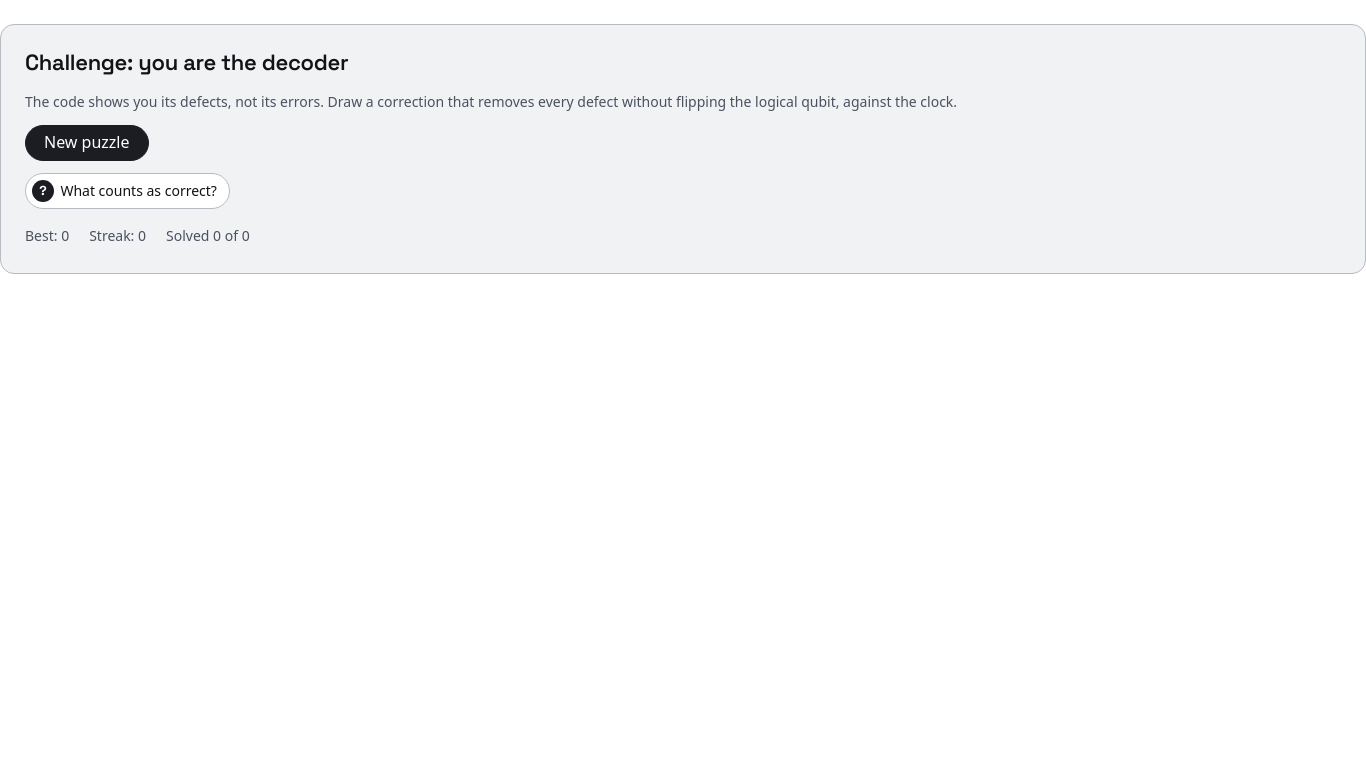
Test: ChallengePanel › submitting nothing: rejected, the player's residual (the error itself) drawn, streak 0, played counted
The width and height of the screenshot is (1366, 768).
What coordinates should you click on to do the following:
click the button "New puzzle"
I would click on:
 (87, 143)
Its box is [25, 125, 148, 161].
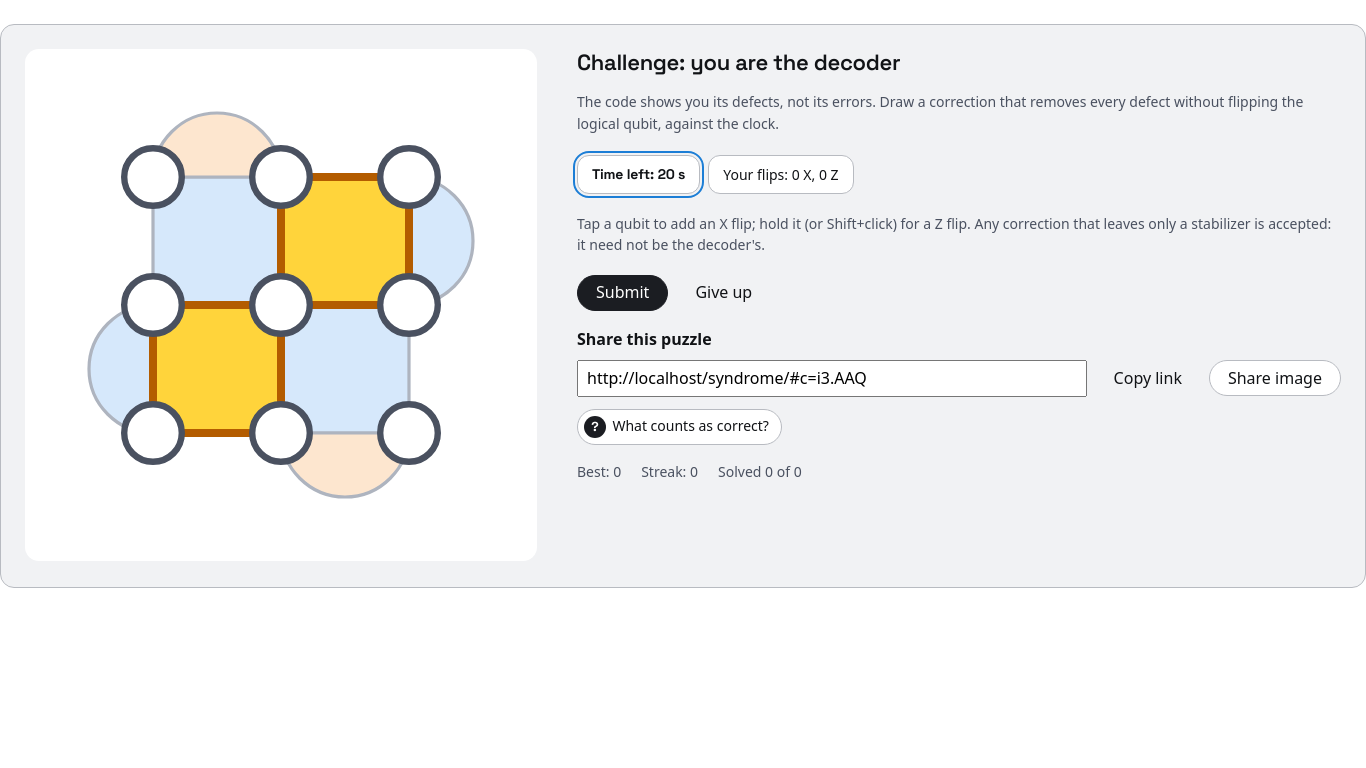
What coordinates should you click on to do the following:
click the button "Submit"
I would click on:
 (623, 293)
Its box is [577, 275, 668, 311].
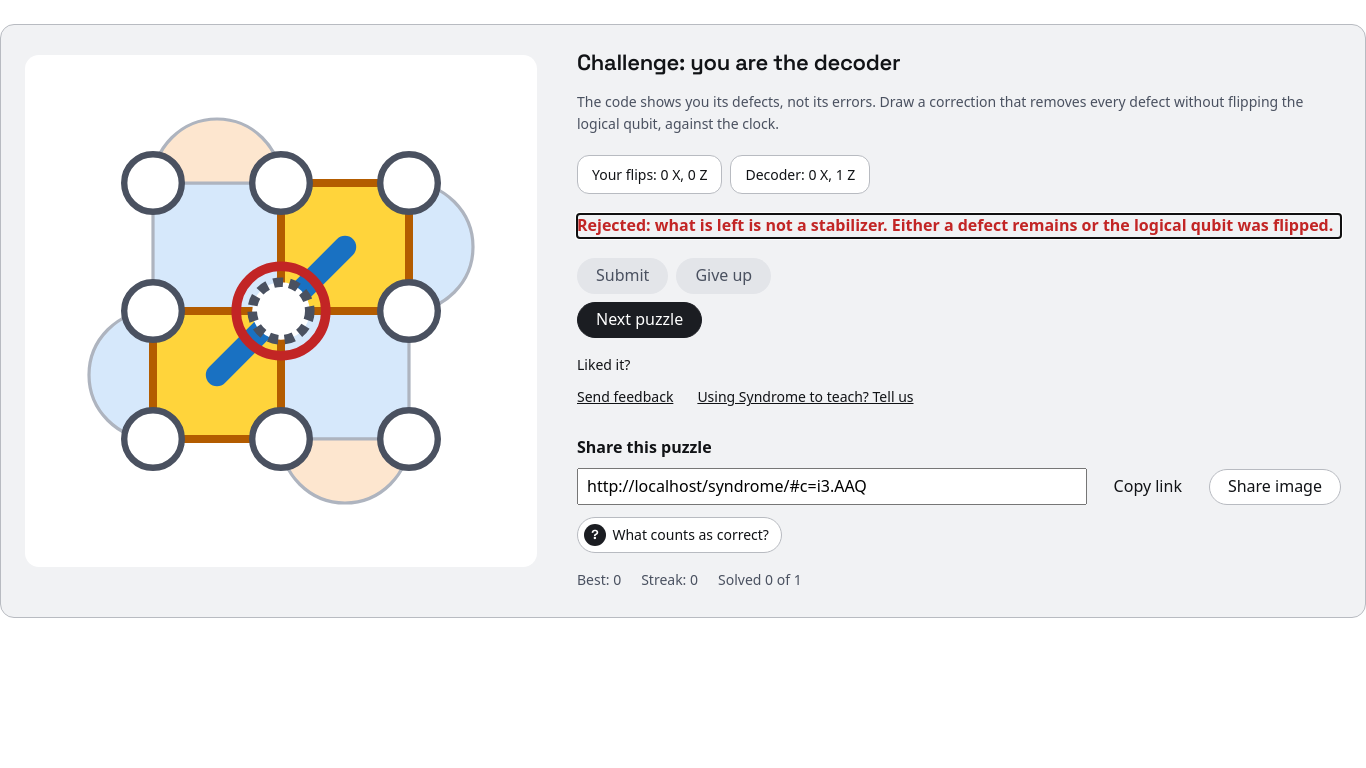
Now the text with class "challenge__verdict" shows "Rejected: what is left is not a stabilizer. Either a defect remains or the logical qubit was flipped.", box [577, 214, 1333, 236]
